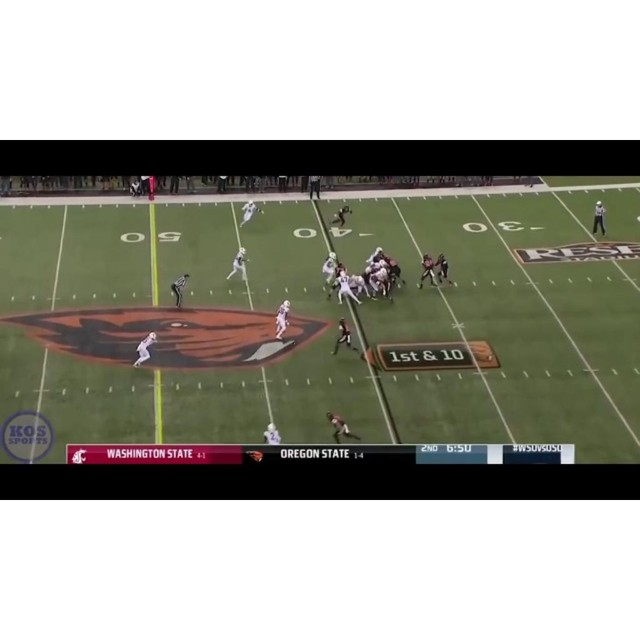american-football-player: (326, 411, 362, 443), (330, 318, 359, 356), (334, 272, 362, 307), (133, 331, 158, 368), (226, 247, 249, 281), (274, 299, 292, 340), (418, 253, 438, 288), (321, 252, 338, 292), (435, 253, 455, 287), (330, 204, 352, 232), (239, 200, 259, 228), (263, 422, 281, 445)
referee: (171, 272, 191, 310), (592, 201, 608, 237), (308, 175, 321, 200)
